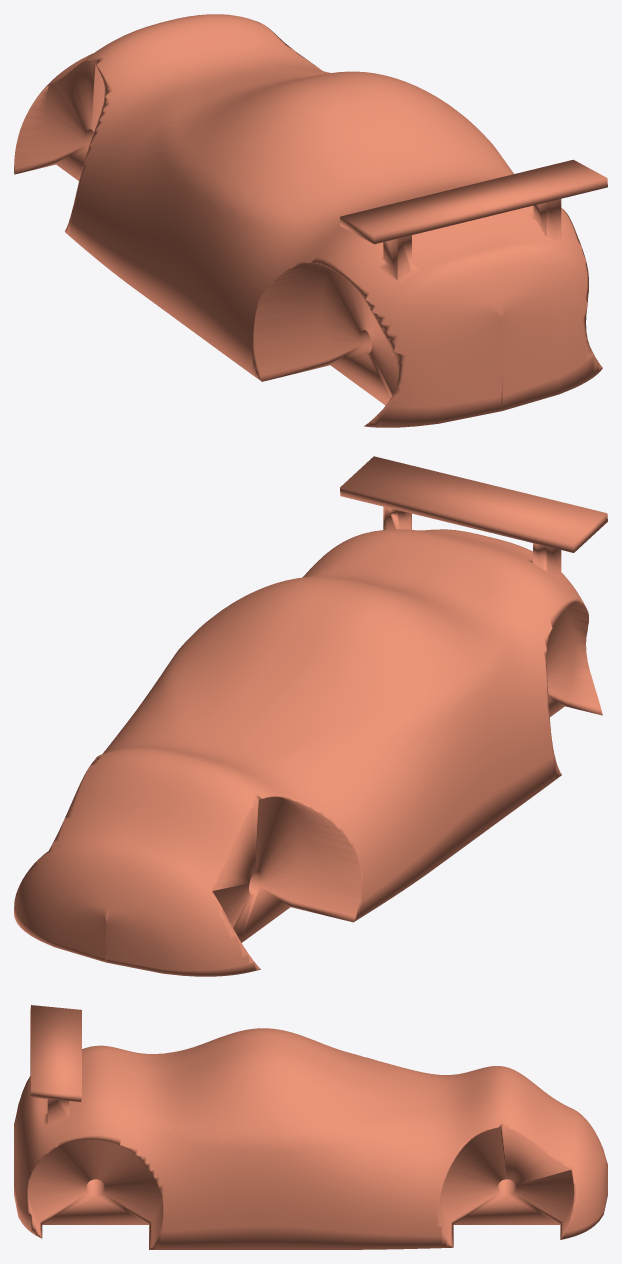
File: vortice.glb
3 views of the same model, one above another, from view 1: azimuth 30°, elevation 25°; view 2: azimuth 150°, elevation 25°; view 3: azimuth 270°, elevation 25° (orthographic). The views are drawn at different scales.
Visible parts, largest first — view 1: geometry_0; view 2: geometry_0; view 3: geometry_0.
Part boxes in pixels (bbox=[...]): geometry_0: bbox=[14, 14, 607, 427]; geometry_0: bbox=[14, 456, 607, 976]; geometry_0: bbox=[14, 1005, 607, 1249].
Size of the model in its own units: 1.93 by 1.25 by 4.41.
